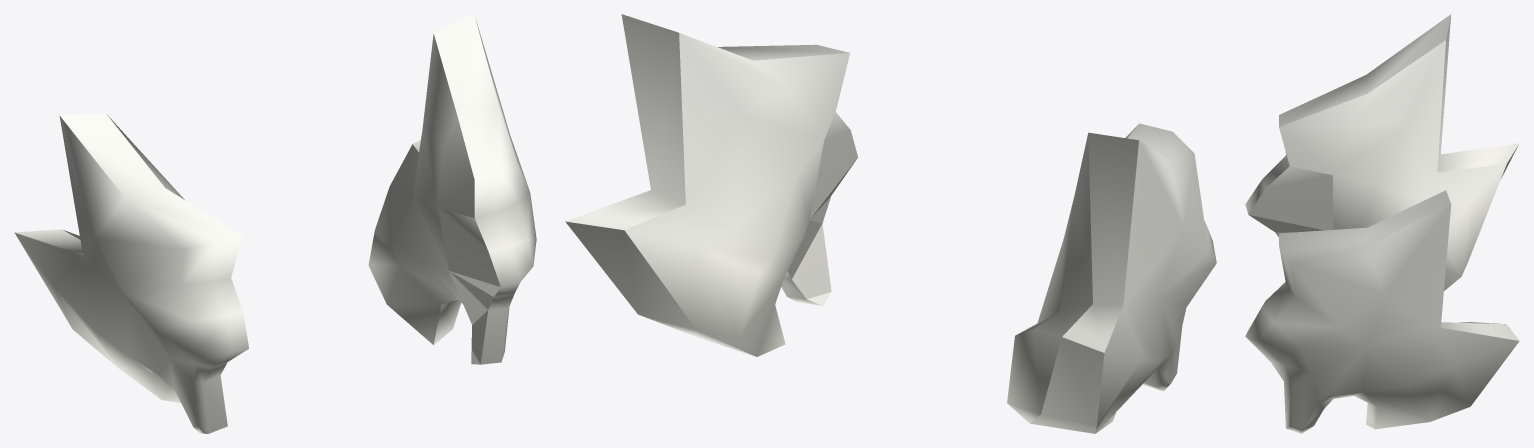
The model's file is Hair_White_18.fbx.
3 renders of one model, left to right at view 1: azimuth 30°, elevation 25°; view 2: azimuth 150°, elevation 25°; view 3: azimuth 270°, elevation 25°, orthographic. The views are drawn at different scales.
Visible parts, largest first — view 1: Hair_White_18; view 2: Hair_White_18; view 3: Hair_White_18.
Part boxes in pixels (<box>): Hair_White_18: <box>14,14,536,433</box>; Hair_White_18: <box>565,14,1216,433</box>; Hair_White_18: <box>1245,14,1519,433</box>.
Size of the model in its own units: 69.78 by 42.74 by 40.87.
